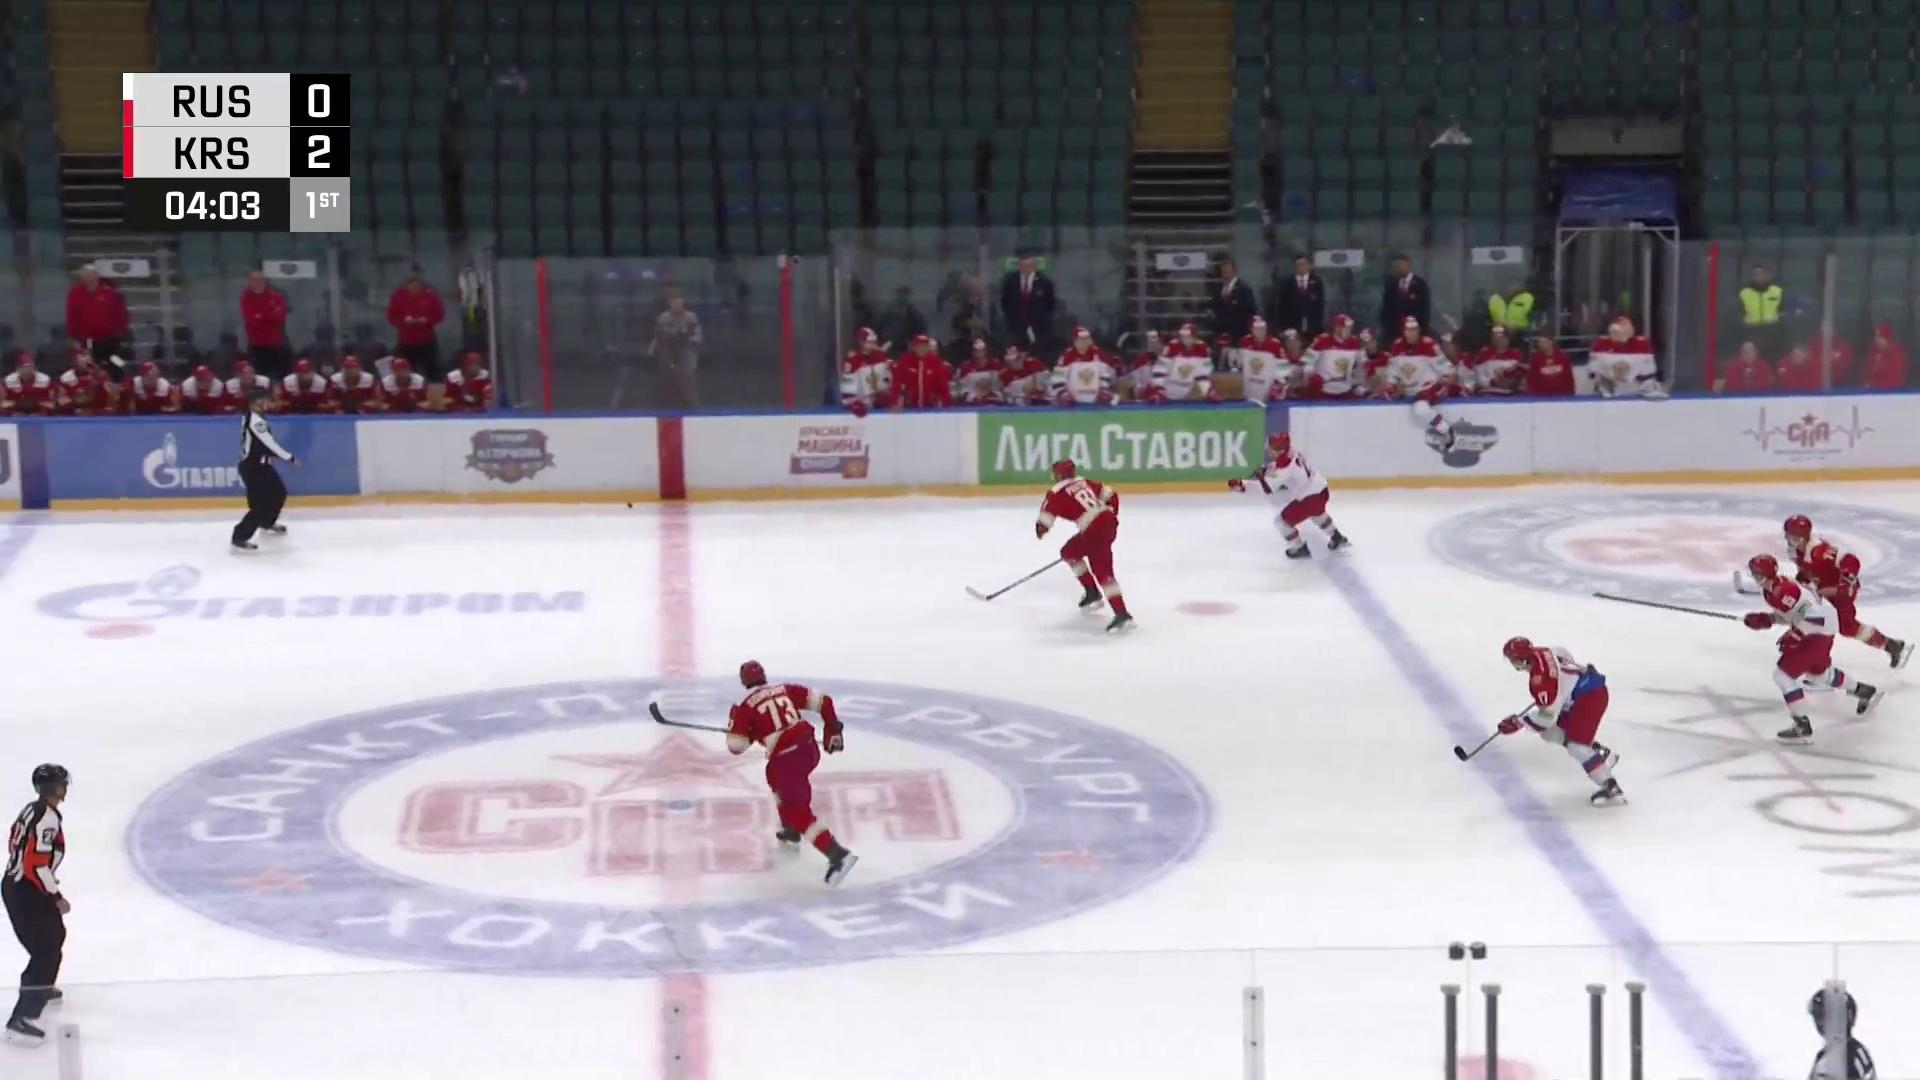ball: (624, 500, 636, 509)
